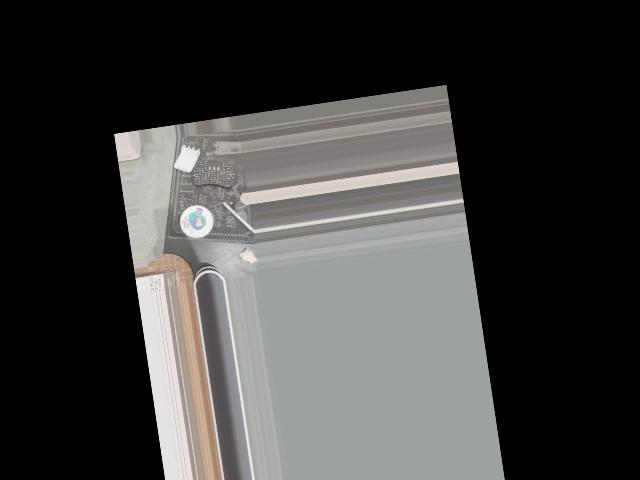cotage: (171, 201, 216, 243)
